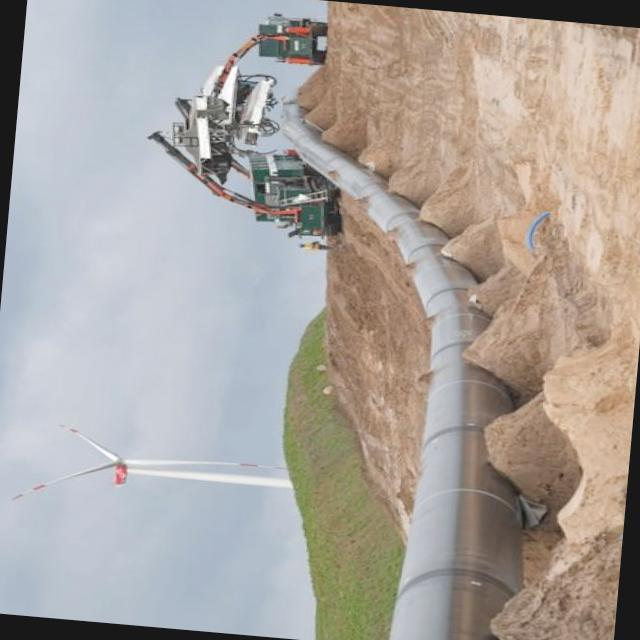gas: (280, 101, 510, 640)
